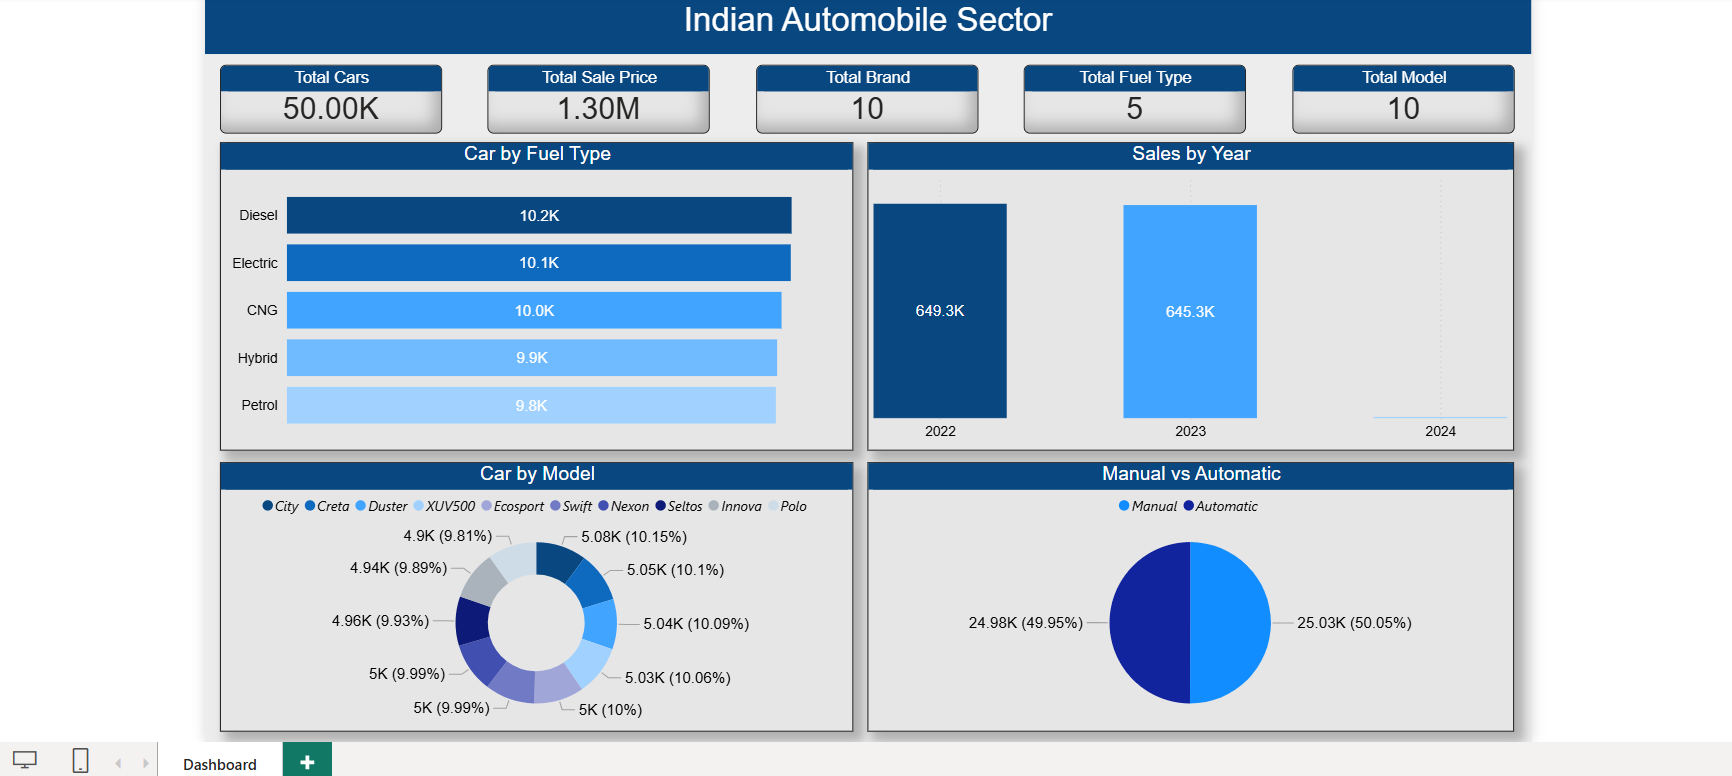

The dashboard page shown, as its layout file describes it:
{"tool":"powerbi","page":{"name":"Dashboard","canvas":[1280,720],"ordinal":0},"visuals":[{"type":"card","title":"Total Cars","fields":{"Values":["Count(MASTER_CARD_DATA.Car_ID)"]},"box":[15,66.2,214.2,66.2],"z":0,"group":"g1"},{"type":"barChart","title":"Car by Fuel Type","fields":{"Category":["MASTER_CARD_DATA.Fuel_Type"],"Y":["Count(MASTER_CARD_DATA.Car_ID)"]},"box":[15,141.2,611.2,297.5],"z":0},{"type":"card","title":"Total Sale Price","fields":{"Values":["Sum(MASTER_CARD_DATA.Sale_Price_Lakh)"]},"box":[273.6,66.2,214.2,66.2],"z":1000,"group":"g1"},{"type":"columnChart","title":"Sales by Year","fields":{"Y":["Sum(MASTER_CARD_DATA.Sale_Price_Lakh)"],"Category":["MASTER_CARD_DATA.Sale_Date.Variation.Date Hierarchy.Year"]},"box":[640,141.2,623.8,297.5],"z":1000},{"type":"card","title":"Total Brand","fields":{"Values":["Count(MASTER_CARD_DATA.Brand)"]},"box":[532.3,66.2,214.2,66.2],"z":2000,"group":"g1"},{"type":"donutChart","title":"Car by Model","fields":{"Category":["MASTER_CARD_DATA.Model"],"Y":["Count(MASTER_CARD_DATA.Car_ID)"]},"box":[15,450,611.2,260],"z":2000},{"type":"card","title":"Total Fuel Type","fields":{"Values":["Count(MASTER_CARD_DATA.Fuel_Type)"]},"box":[790.9,66.2,214.2,66.2],"z":3000,"group":"g1"},{"type":"pieChart","title":"Manual vs Automatic ","fields":{"Category":["MASTER_CARD_DATA.Transmission"],"Y":["Count(MASTER_CARD_DATA.Car_ID)"]},"box":[640,450,623.8,260],"z":3000},{"type":"group","id":"g1","title":"Group 1","box":[15,66.2,1248.8,66.2],"z":4000},{"type":"card","title":"Total Model","fields":{"Values":["Count(MASTER_CARD_DATA.Model)"]},"box":[1049.6,66.2,214.2,66.2],"z":4000,"group":"g1"},{"type":"textbox","box":[0,0,1280,56.2],"z":5000}]}

Visuals, with their boxes in screenshot pixels (x1, y1, x2, y2):
"Total Cars" card: rect(227, 63, 447, 131)
"Car by Fuel Type" barChart: rect(227, 140, 854, 445)
"Total Sale Price" card: rect(492, 63, 712, 131)
"Sales by Year" columnChart: rect(868, 140, 1507, 445)
"Total Brand" card: rect(758, 63, 977, 131)
"Car by Model" donutChart: rect(227, 457, 854, 723)
"Total Fuel Type" card: rect(1023, 63, 1242, 131)
"Manual vs Automatic " pieChart: rect(868, 457, 1507, 723)
"Group 1" group: rect(227, 63, 1507, 131)
"Total Model" card: rect(1288, 63, 1507, 131)
textbox: rect(212, 0, 1524, 53)
